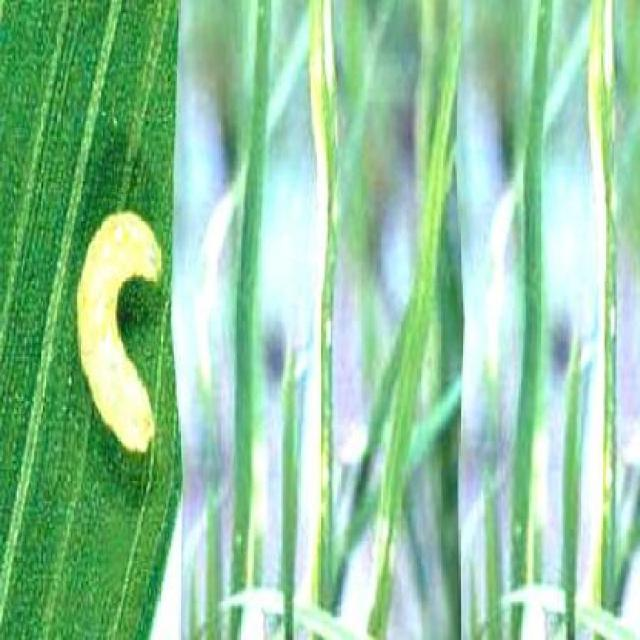whorl-maggot: (76, 202, 166, 468)
